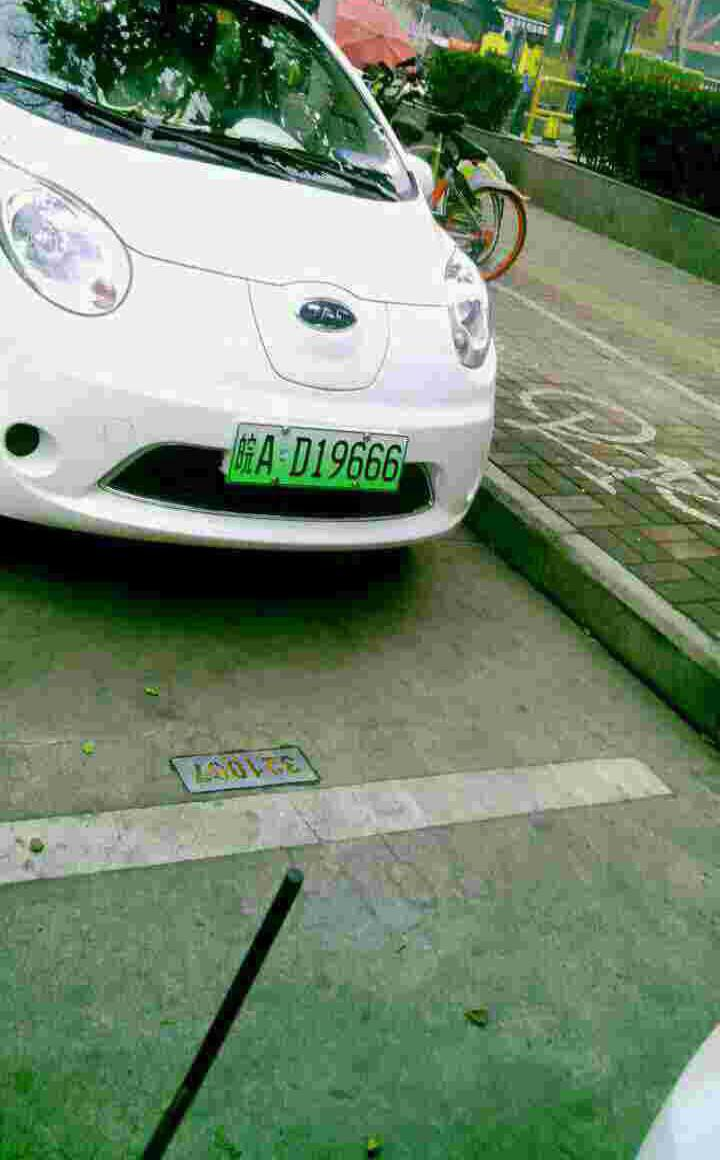car_green: (231, 423, 408, 491)
